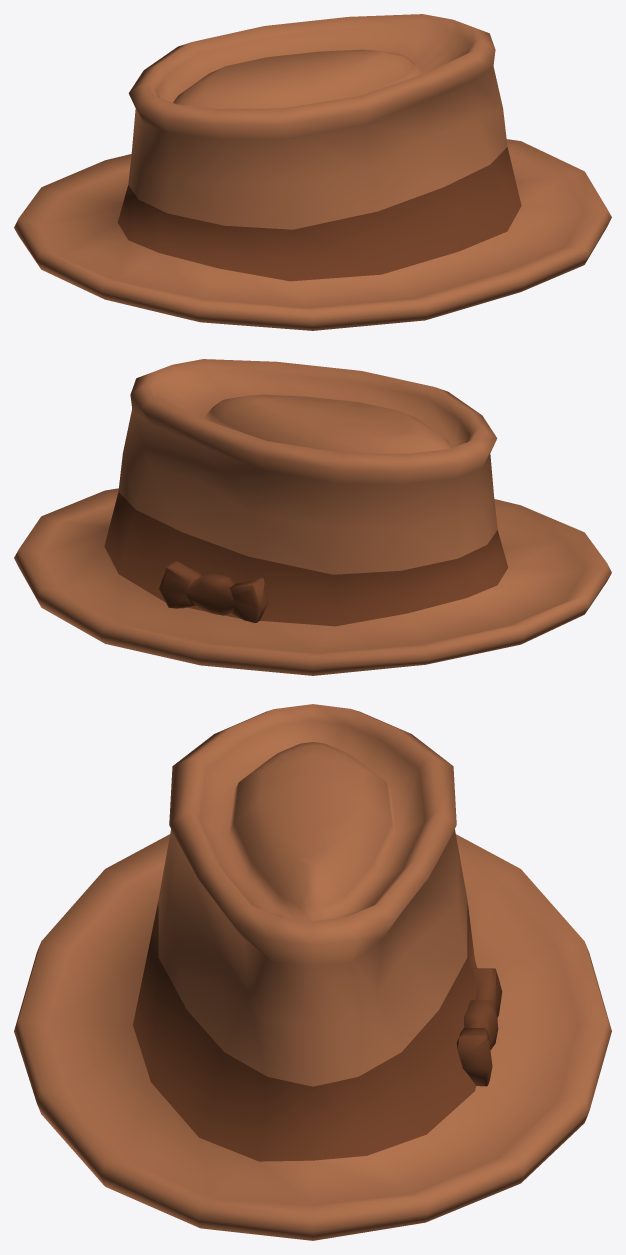
File: DetectiveHat.fbx
The picture shows the model from 3 angles, top to bottom: view 1: azimuth 30°, elevation 25°; view 2: azimuth 150°, elevation 25°; view 3: azimuth 270°, elevation 25°; orthographic projection. The views are drawn at different scales.
Parts seen in each view (by area): view 1: Circle; view 2: Circle, Cube; view 3: Circle, Cube.
Boxes of the visible parts, x1,y1,x2,y2 form: Circle: (14,14,611,330); Circle: (14,359,611,675); Cube: (159,560,268,622); Circle: (14,704,611,1240); Cube: (456,968,502,1086).
Bounding box in the file's own units: 284 × 98.43 × 203.
